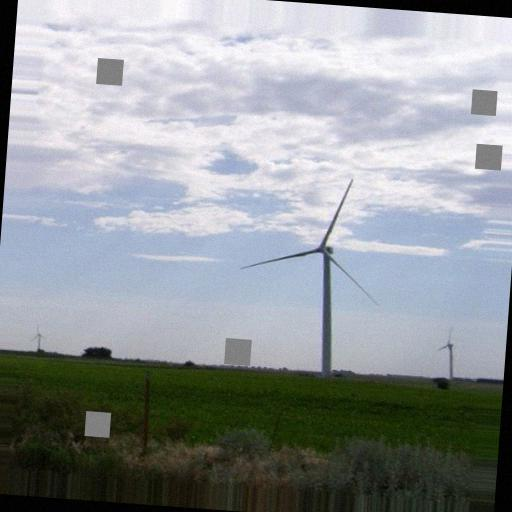wind turbine: (237, 179, 376, 374), (437, 325, 461, 380), (27, 324, 49, 352)
